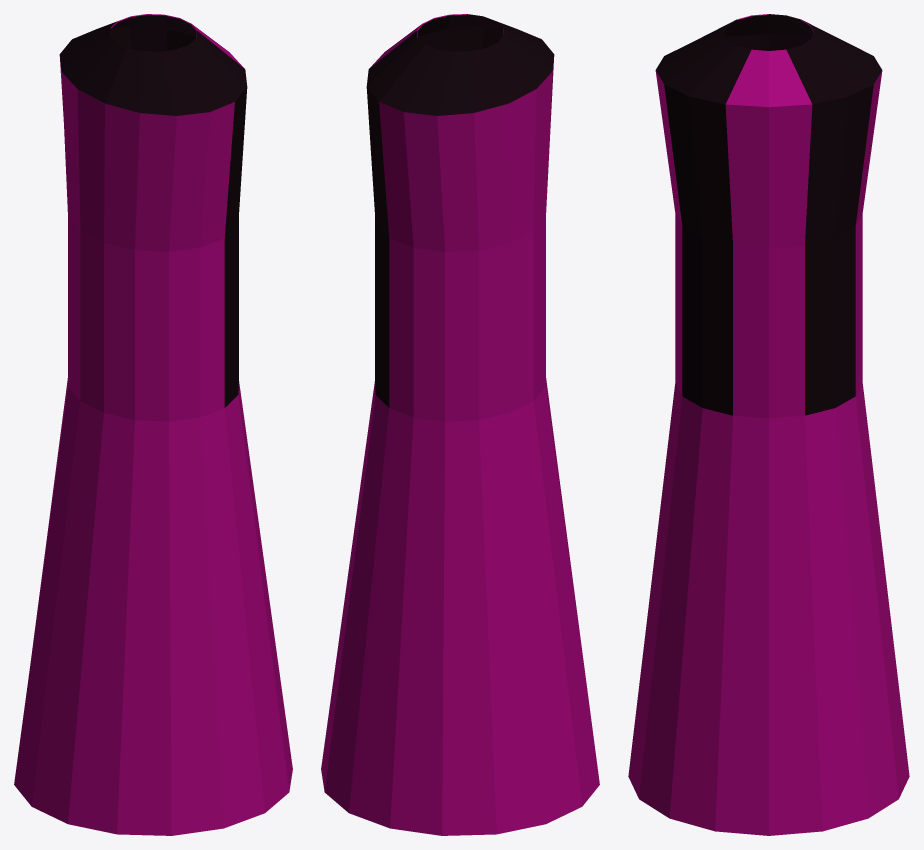
The model's file is Dumbledore_hood.fbx.
3 views of the same model, side by side, from view 1: azimuth 30°, elevation 25°; view 2: azimuth 150°, elevation 25°; view 3: azimuth 270°, elevation 25° (orthographic).
Visible parts, largest first — view 1: Cylinder; view 2: Cylinder; view 3: Cylinder.
Part boxes in pixels (x1,y1,x2,y2): Cylinder: (14,14,292,835); Cylinder: (321,14,599,835); Cylinder: (628,14,909,835).
Bounding box in the file's own units: 300 × 876 × 300.
